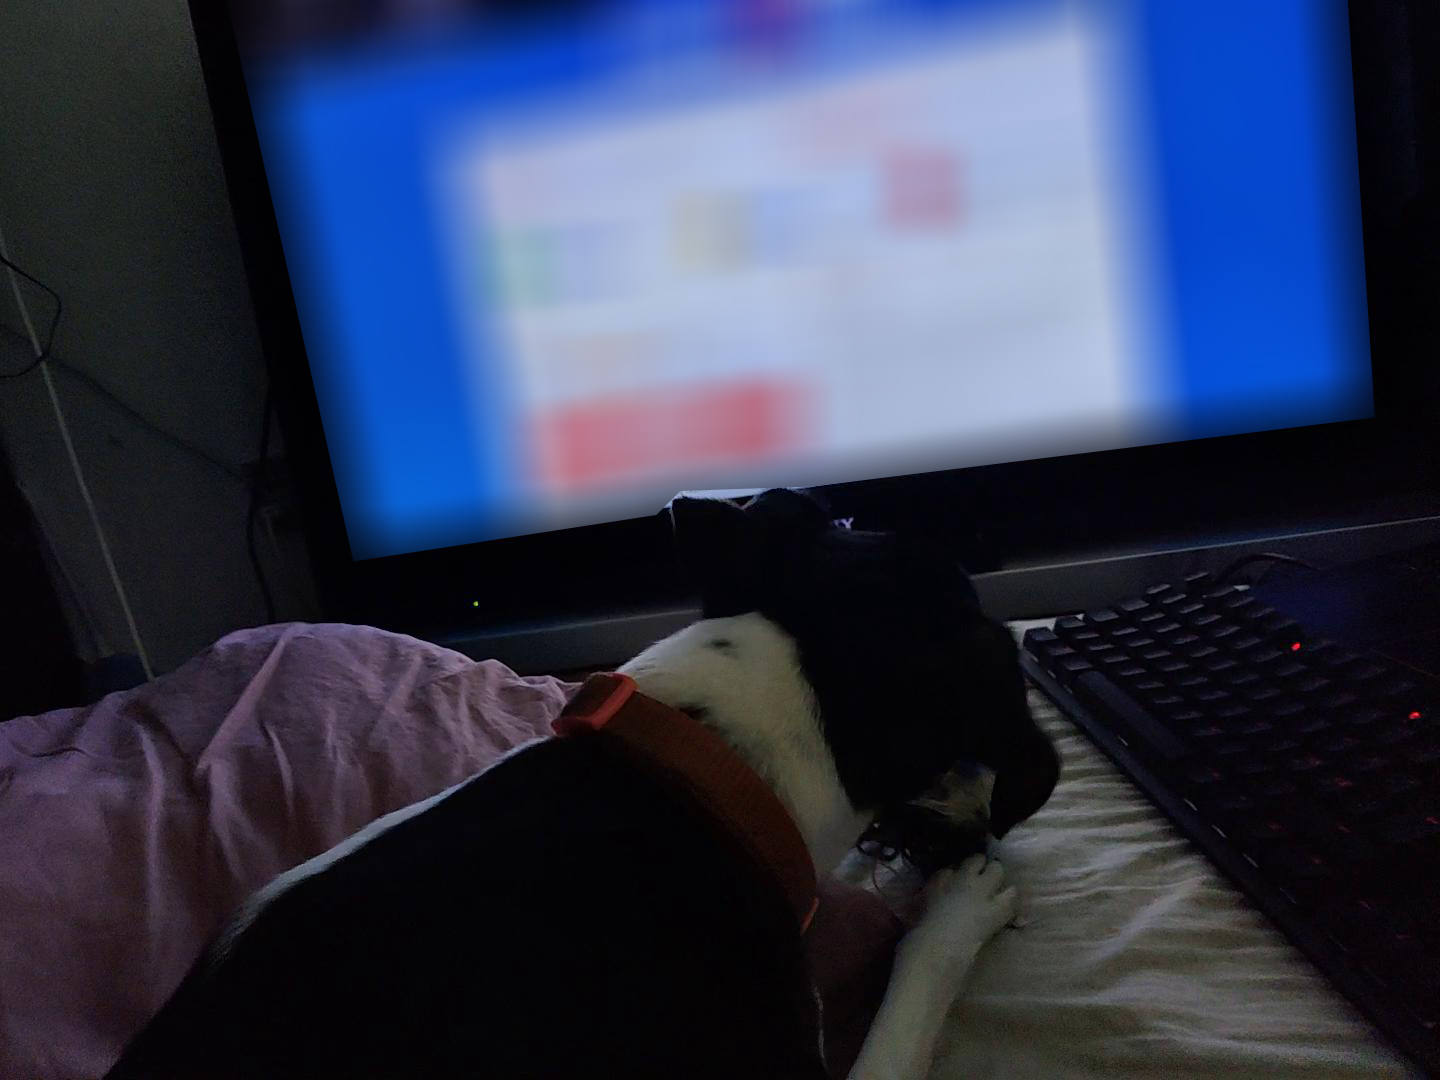Dog: (100, 486, 1071, 1079)
